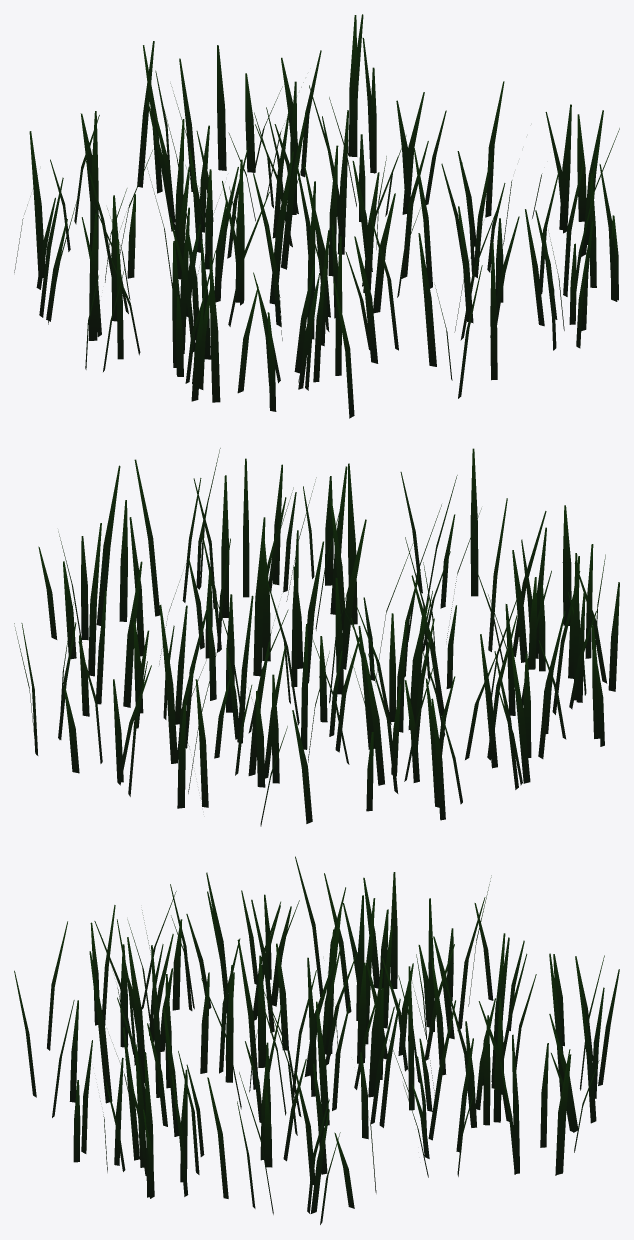
The model's file is SM_Lawn_B.fbx.
The picture shows the model from 3 angles, top to bottom: view 1: azimuth 30°, elevation 25°; view 2: azimuth 150°, elevation 25°; view 3: azimuth 270°, elevation 25°; orthographic projection. The views are drawn at different scales.
Visible parts, largest first — view 1: SM_Lawn_B; view 2: SM_Lawn_B; view 3: SM_Lawn_B.
Part boxes in pixels (x1,y1,x2,y2): SM_Lawn_B: (14,14,619,418); SM_Lawn_B: (14,448,619,826); SM_Lawn_B: (14,856,619,1224).
Size of the model in its own units: 62.8 by 64.88 by 16.78.
